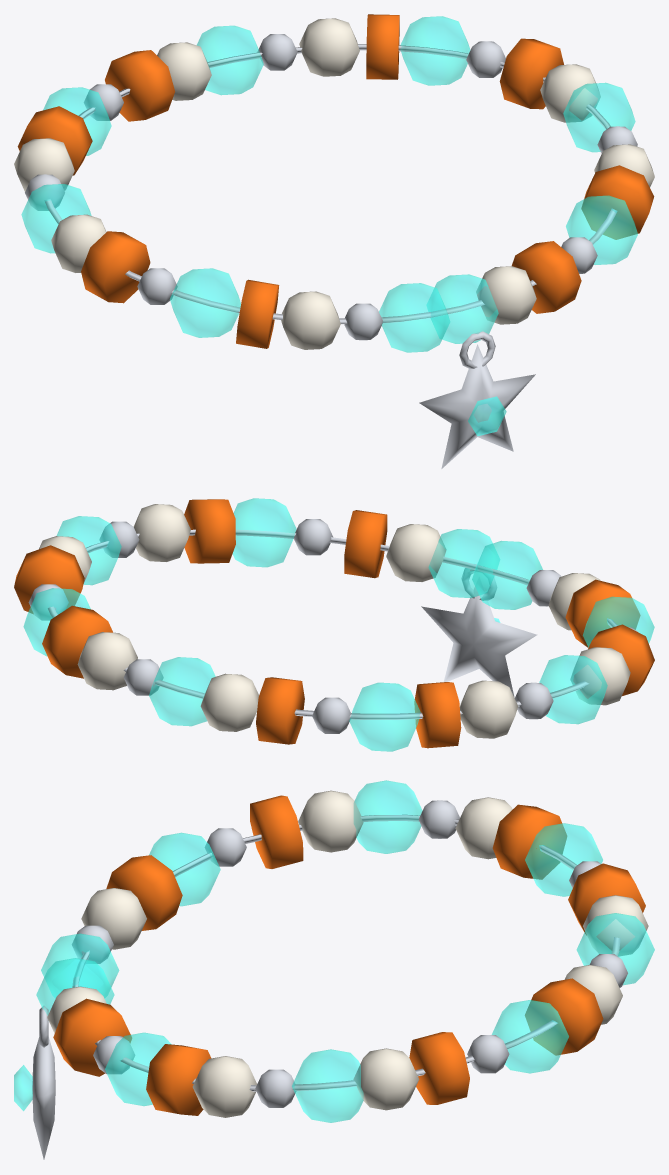
Rendered from y2k_bead_necklace.glb.
3 views of the same model, one above another, from view 1: azimuth 30°, elevation 25°; view 2: azimuth 150°, elevation 25°; view 3: azimuth 270°, elevation 25° (orthographic). The views are drawn at different scales.
Parts seen in each view (by area): view 1: y2k_bead_necklace; view 2: y2k_bead_necklace; view 3: y2k_bead_necklace.
Part boxes in pixels (x1,y1,x2,y2): y2k_bead_necklace: [14, 14, 654, 468]; y2k_bead_necklace: [14, 498, 654, 751]; y2k_bead_necklace: [14, 780, 654, 1159].
Bounding box in the file's own units: 0.0894 × 0.0337 × 0.0817.
